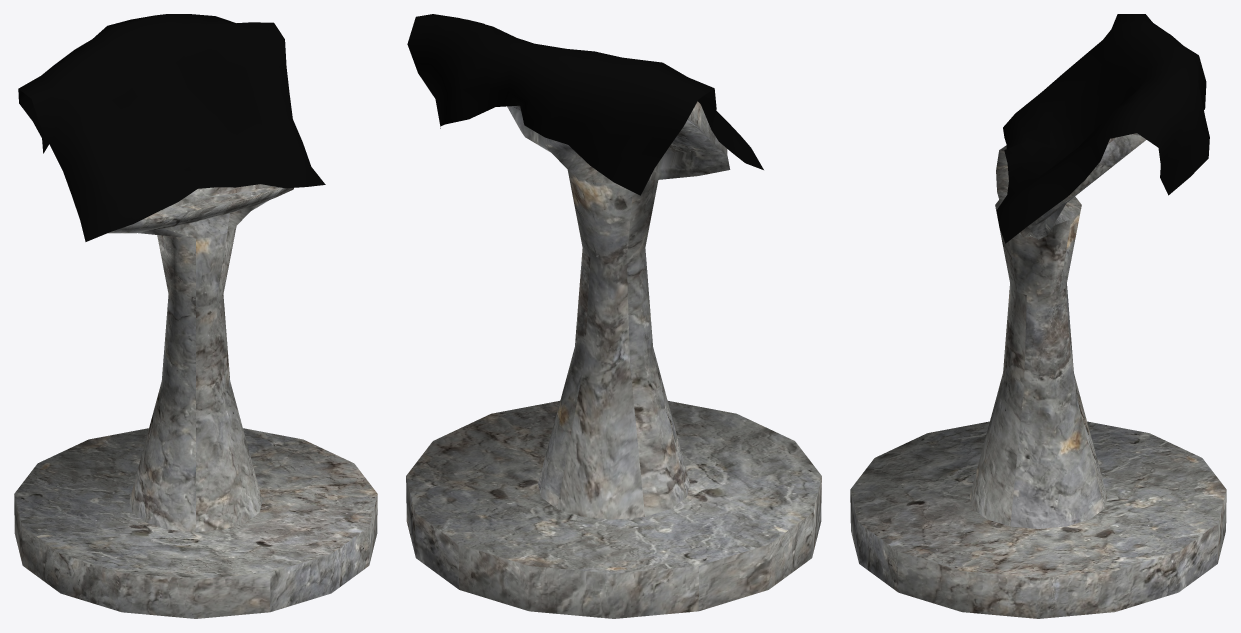
File: BookCarrier.fbx
3 views of the same model, side by side, from view 1: azimuth 30°, elevation 25°; view 2: azimuth 150°, elevation 25°; view 3: azimuth 270°, elevation 25° (orthographic). The views are drawn at different scales.
Visible parts, largest first — view 1: Plane; view 2: Plane; view 3: Plane.
Boxes of the visible parts, bbox=[...] form: Plane: bbox=[14, 14, 377, 618]; Plane: bbox=[406, 14, 821, 618]; Plane: bbox=[850, 14, 1226, 618].
Size of the model in its own units: 3.97 by 5.72 by 3.99.
